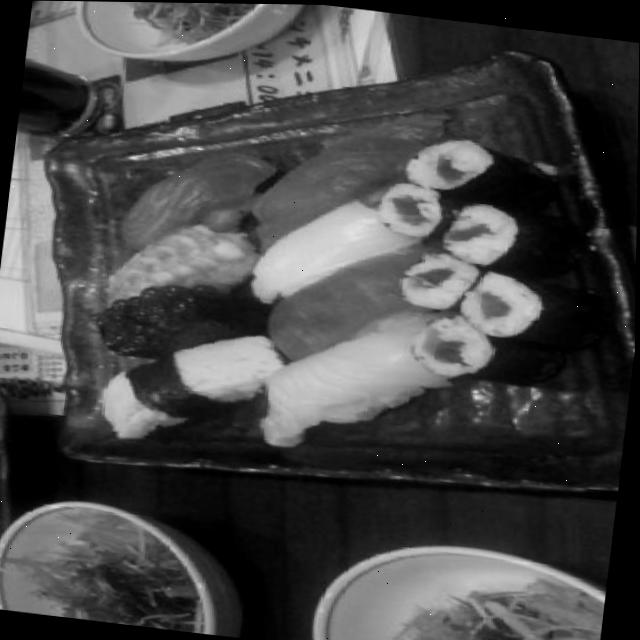寿司卷物: (48, 71, 581, 504)
蔬菜料理: (0, 495, 222, 633), (350, 554, 609, 640), (99, 1, 284, 66)
